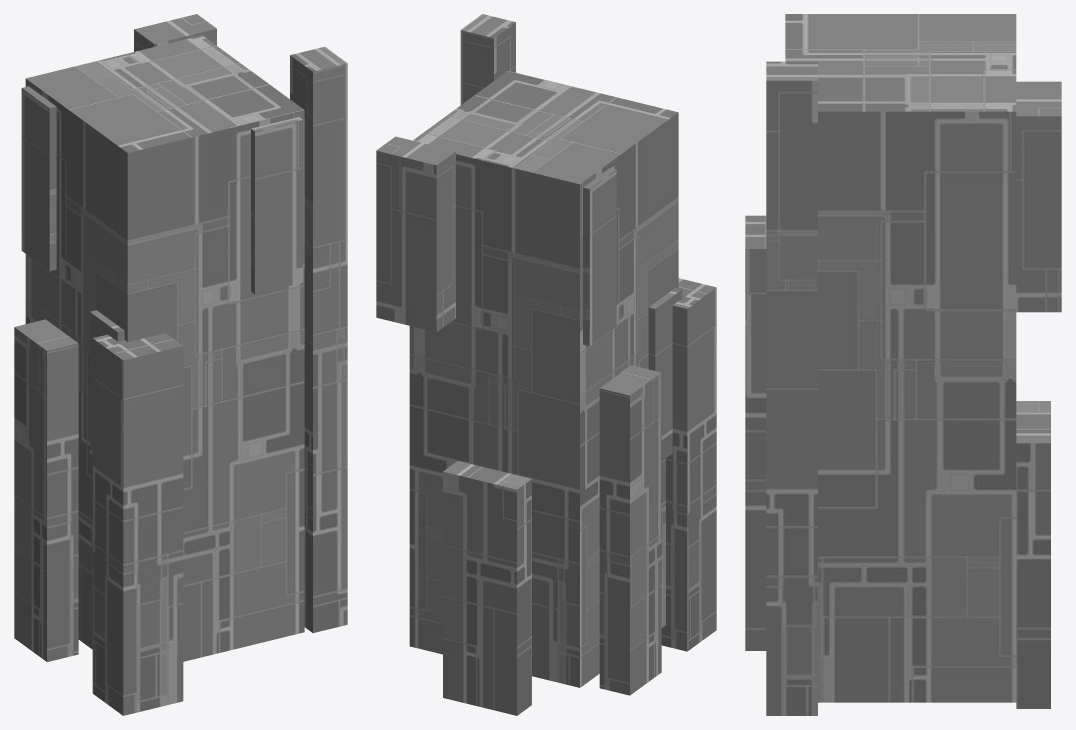
Rendered from SM_architecture_module_08.glb.
3 renders of one model, left to right at view 1: azimuth 30°, elevation 25°; view 2: azimuth 150°, elevation 25°; view 3: azimuth 270°, elevation 25°, orthographic. The views are drawn at different scales.
Parts seen in each view (by area): view 1: SM_architecture_module_08; view 2: SM_architecture_module_08; view 3: SM_architecture_module_08.
Boxes of the visible parts, x1,y1,x2,y2 form: SM_architecture_module_08: (14, 14, 347, 715); SM_architecture_module_08: (376, 14, 716, 715); SM_architecture_module_08: (745, 14, 1061, 715).
Bounding box in the file's own units: 1.55 × 3.64 × 1.55.
1 material, 1 textured.
